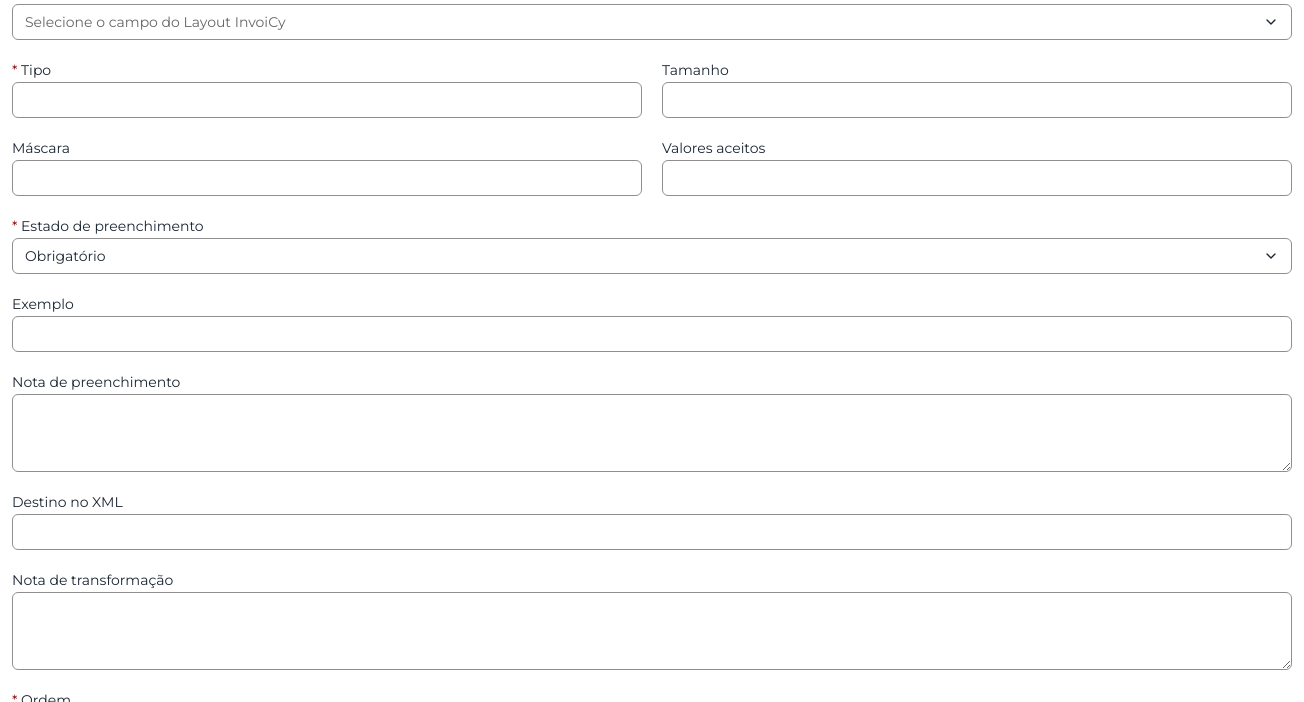
Test: CampoVersaoForm › exige condição quando o estado de preenchimento é Condicional
This screenshot has width=1304, height=702.
Later steps or results of the test are not shown.
Click the dropdown named "campo canônico": (155, 22) [12,4,1292,40]
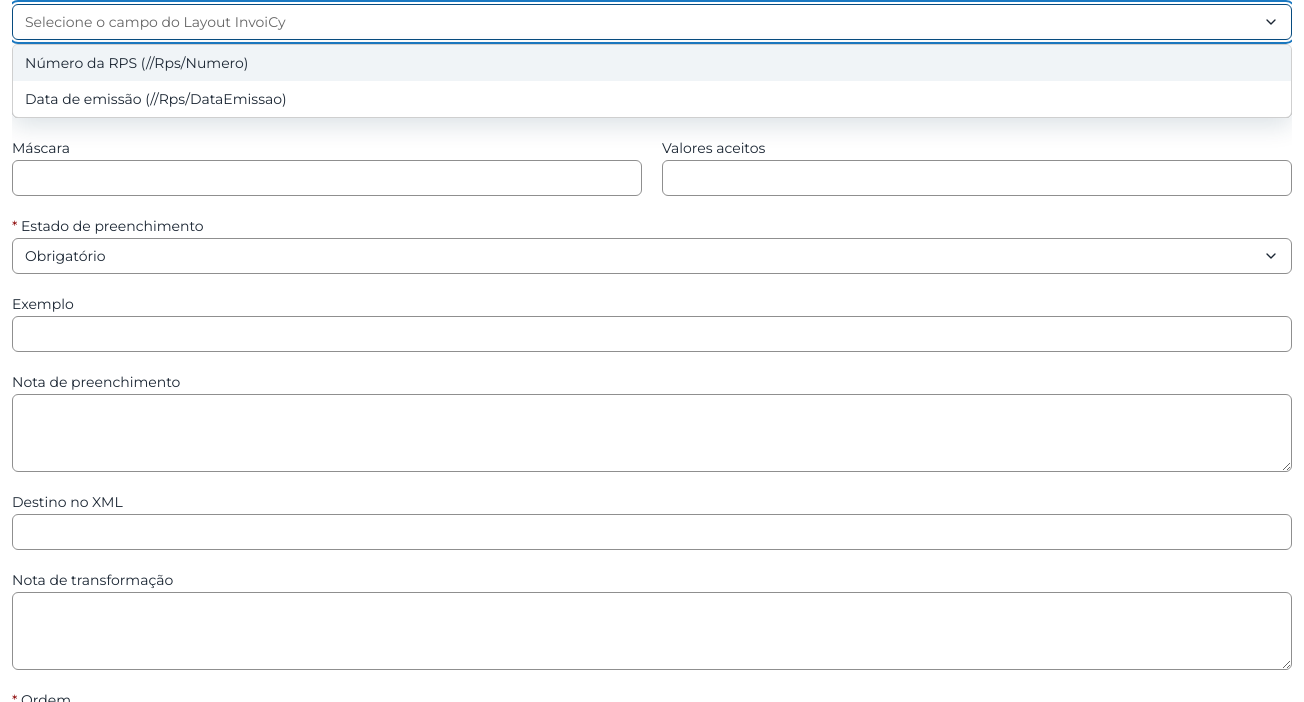
Click the option "Número da RPS (//Rps/Numero)": (137, 63) [13,45,1291,81]
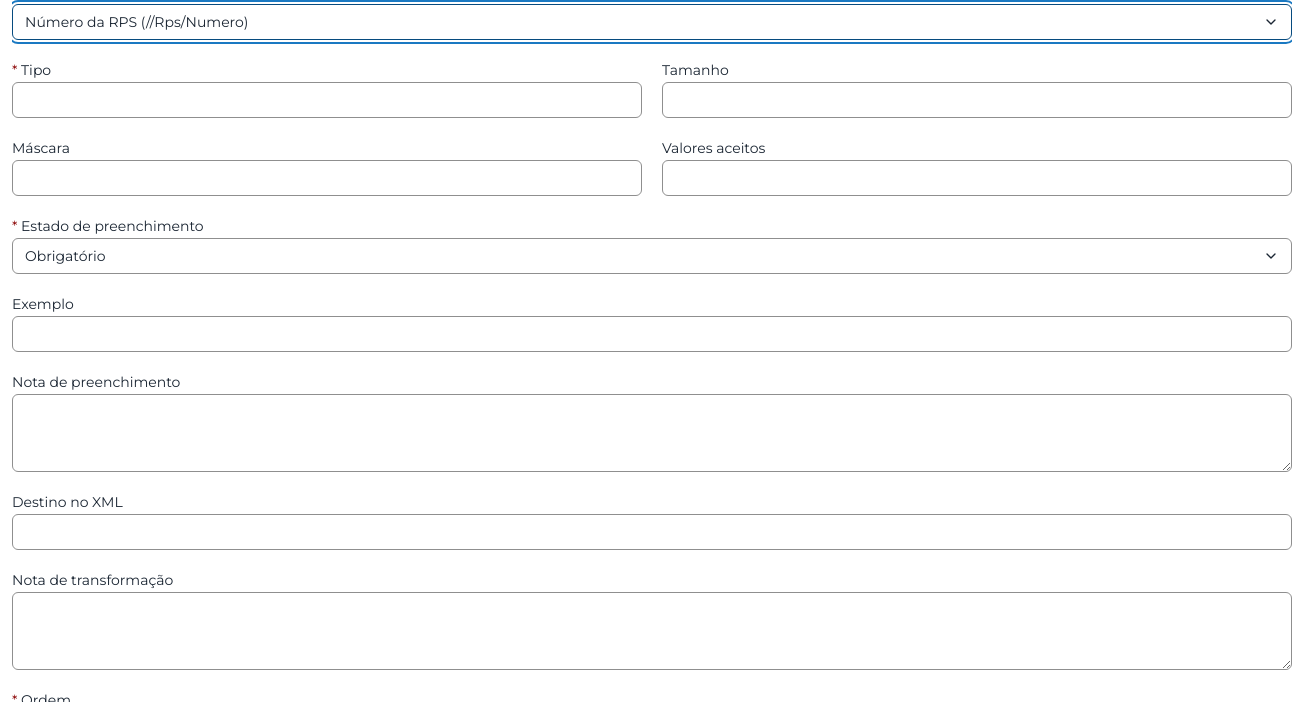
In the field labelled "* Tipo": (327, 100) [12,82,642,118], type "Texto"
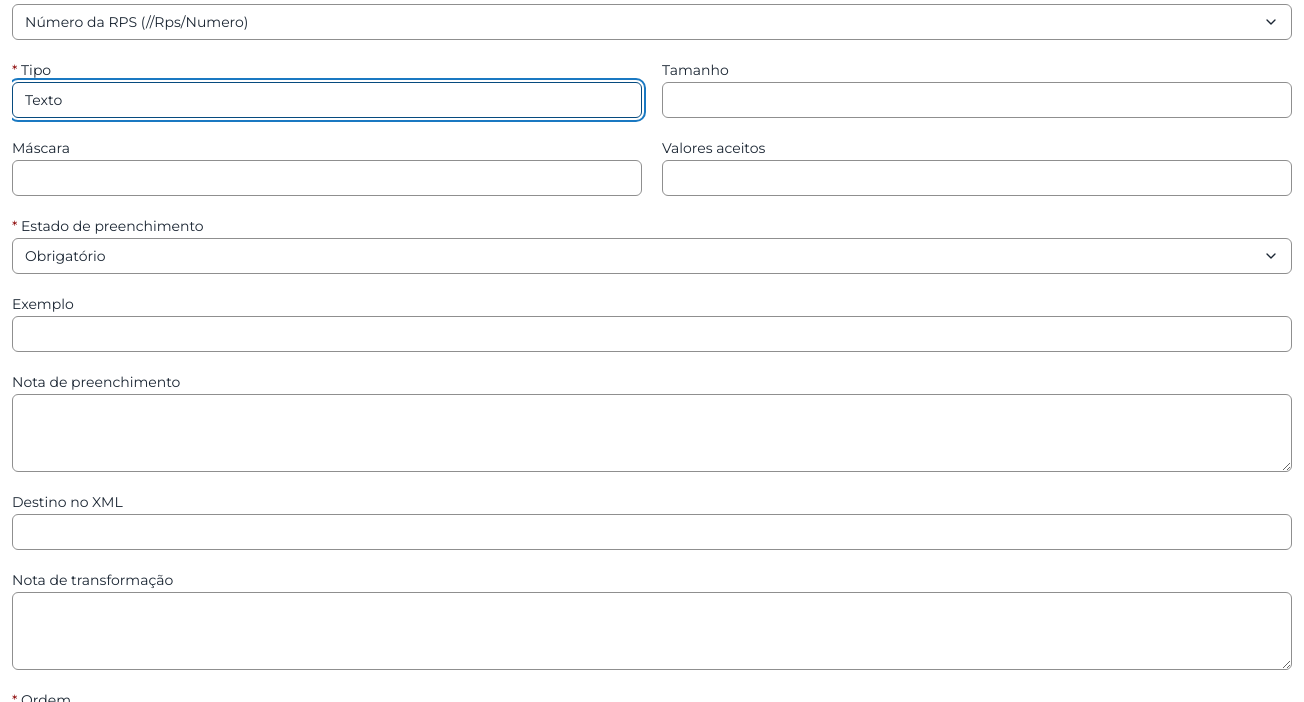
Click the dropdown named "estado de preenchimento": (65, 256) [12,238,1292,274]
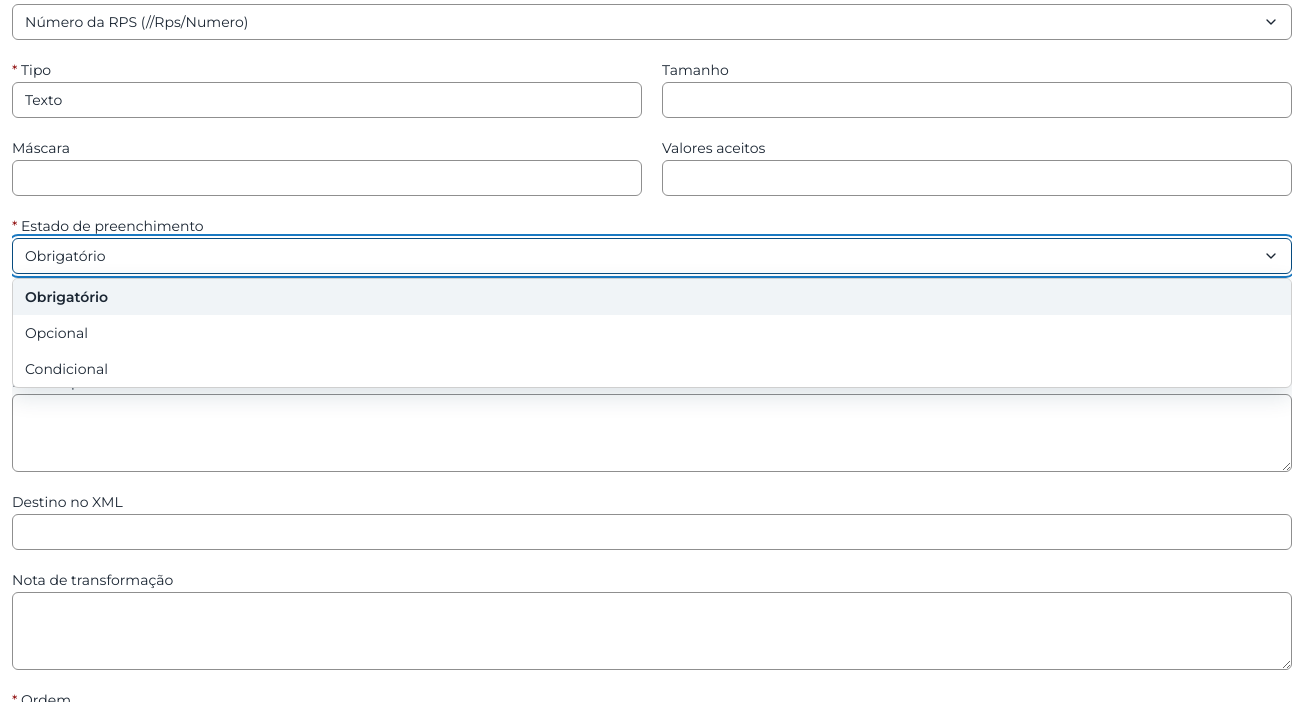
Click the option "Condicional": (66, 369) [25,360,108,378]
(page scrolled)
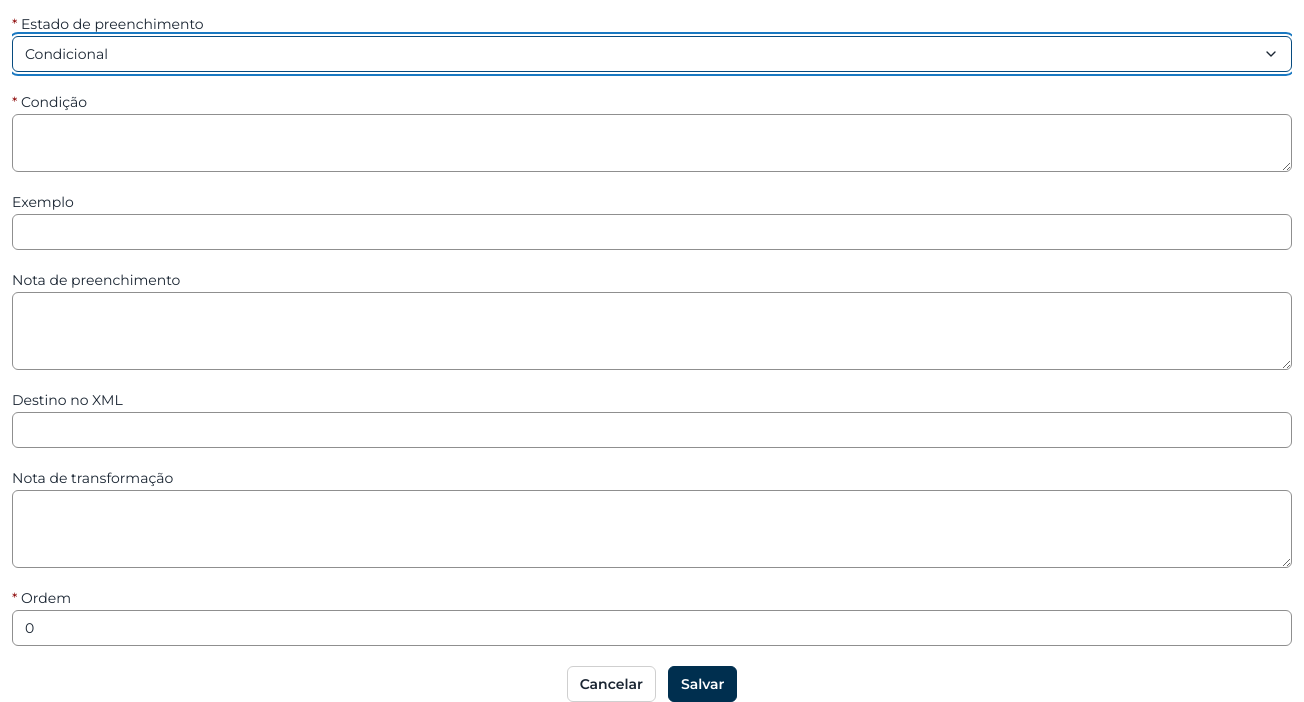
Click the button "Salvar": (703, 684) [668,666,737,701]
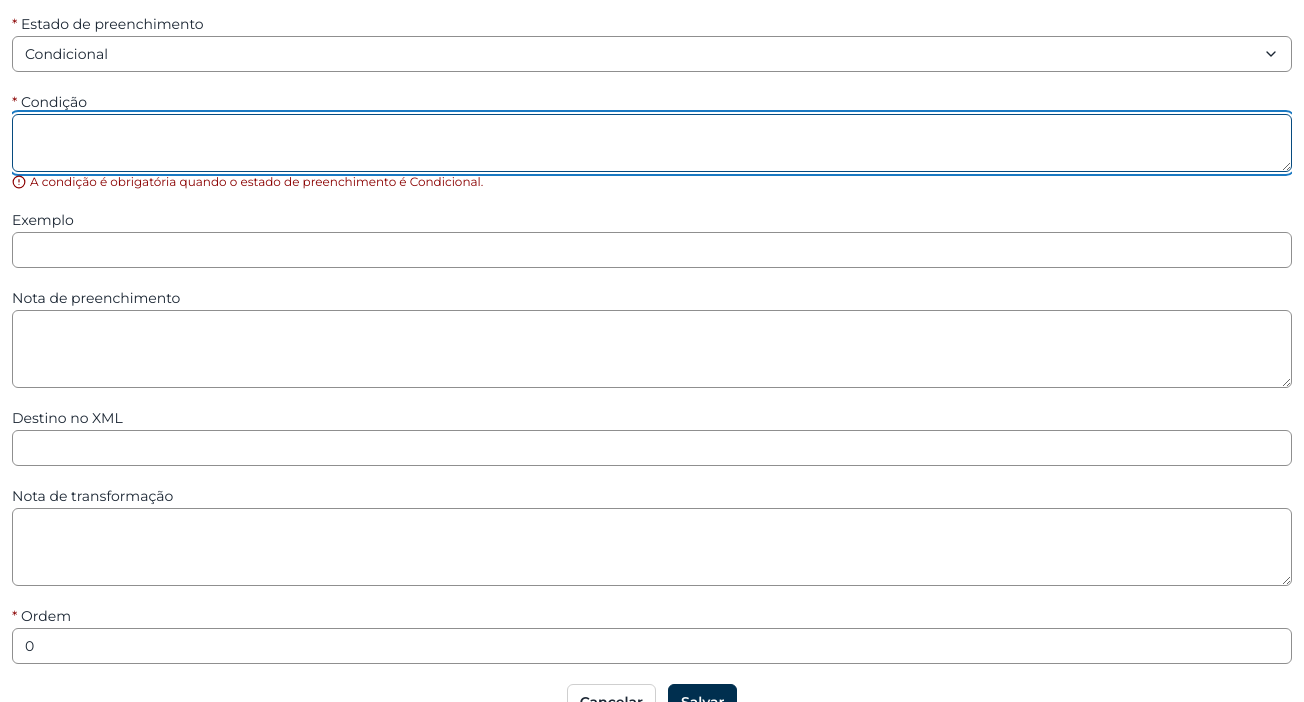
Check: the text "A condição é obrigatória quando o estado de preenchimento é Condicional." is shown, box [12,174,483,189]
